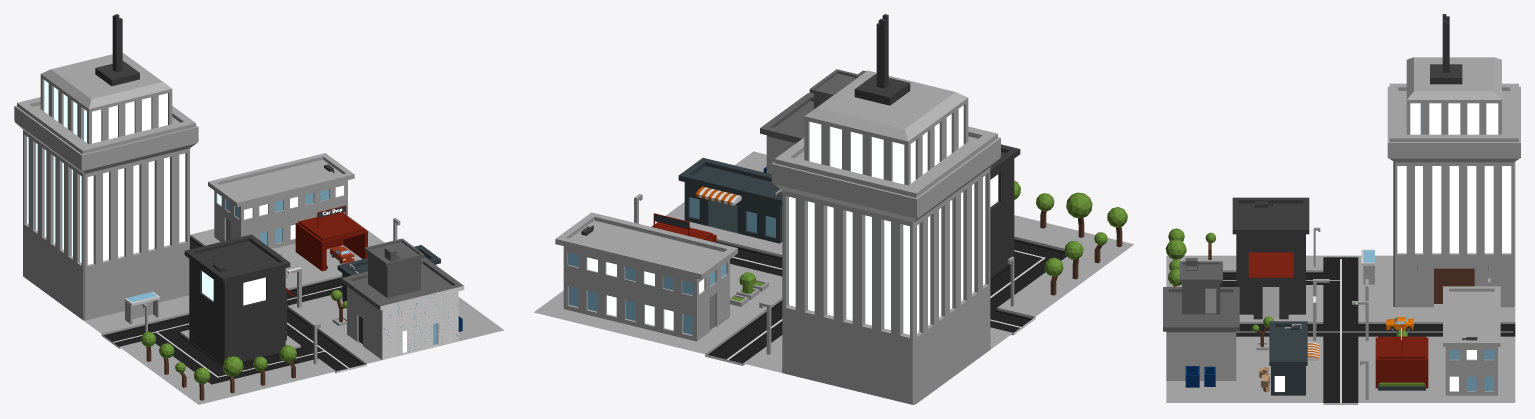
File: low_poly_city.glb
3 views of the same model, side by side, from view 1: azimuth 30°, elevation 25°; view 2: azimuth 150°, elevation 25°; view 3: azimuth 270°, elevation 25° (orthographic). The views are drawn at different scales.
Parts seen in each view (by area): view 1: Plane; view 2: Plane; view 3: Plane.
Boxes of the visible parts, x1,y1,x2,y2 form: Plane: (14, 14, 503, 404); Plane: (534, 14, 1133, 404); Plane: (1163, 14, 1520, 404).
Size of the model in its own units: 2.03 by 1.72 by 2.05.
5 materials, 3 textured.
